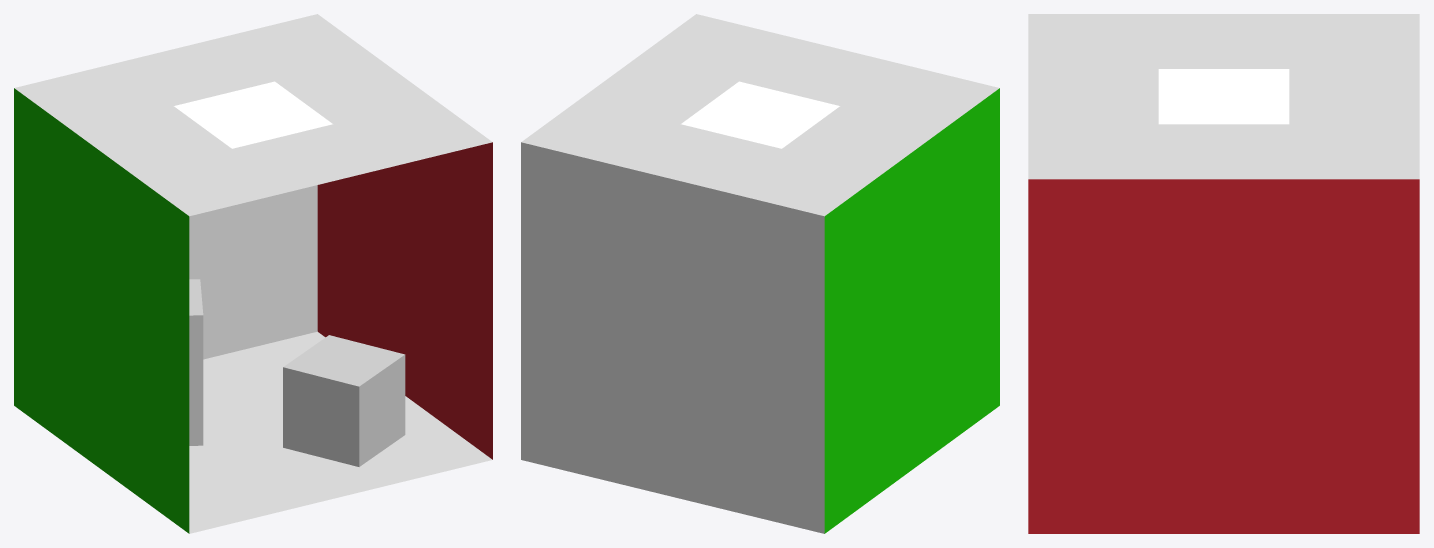
File: cornell_box_boxes.gltf
The picture shows the model from 3 angles, left to right: view 1: azimuth 30°, elevation 25°; view 2: azimuth 150°, elevation 25°; view 3: azimuth 270°, elevation 25°; orthographic projection. The views are drawn at different scales.
Visible parts, largest first — view 1: Cube.002, Cube, Cube.001; view 2: Cube.002; view 3: Cube.002.
Part boxes in pixels (x1=…): Cube.002: x1=14, y1=14, x2=492, y2=533; Cube: x1=283, y1=335, x2=405, y2=466; Cube.001: x1=189, y1=279, x2=203, y2=445; Cube.002: x1=521, y1=14, x2=999, y2=533; Cube.002: x1=1028, y1=14, x2=1419, y2=533.
Bounding box in the file's own units: 2 × 2 × 2.
